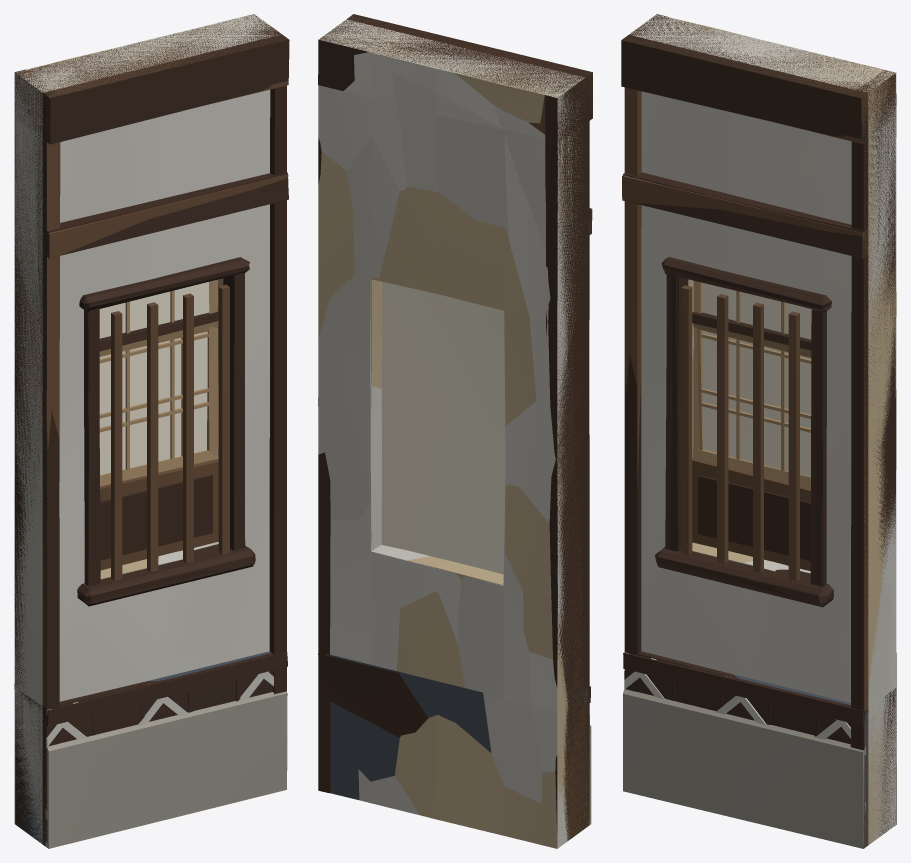
File: wall.window.glb
3 views of the same model, side by side, from view 1: azimuth 30°, elevation 25°; view 2: azimuth 150°, elevation 25°; view 3: azimuth 330°, elevation 25° (orthographic).
Parts seen in each view (by area): view 1: wall.window.v0.mesh, wall.window.v2.mesh, wall.window.v1.mesh; view 2: wall.window.v1.mesh, wall.window.v2.mesh, wall.window.v0.mesh; view 3: wall.window.v0.mesh, wall.window.v2.mesh, wall.window.v1.mesh.
Part boxes in pixels (box(x1,y1,x2,y2)): wall.window.v0.mesh: box(14, 14, 288, 844); wall.window.v2.mesh: box(14, 14, 289, 848); wall.window.v1.mesh: box(14, 15, 288, 847); wall.window.v1.mesh: box(318, 15, 592, 848); wall.window.v2.mesh: box(318, 14, 592, 840); wall.window.v0.mesh: box(318, 14, 591, 848); wall.window.v0.mesh: box(622, 14, 896, 848); wall.window.v2.mesh: box(621, 14, 896, 848); wall.window.v1.mesh: box(622, 16, 896, 847).
Bounding box in the file's own units: 0.9999 × 3 × 0.2795.
